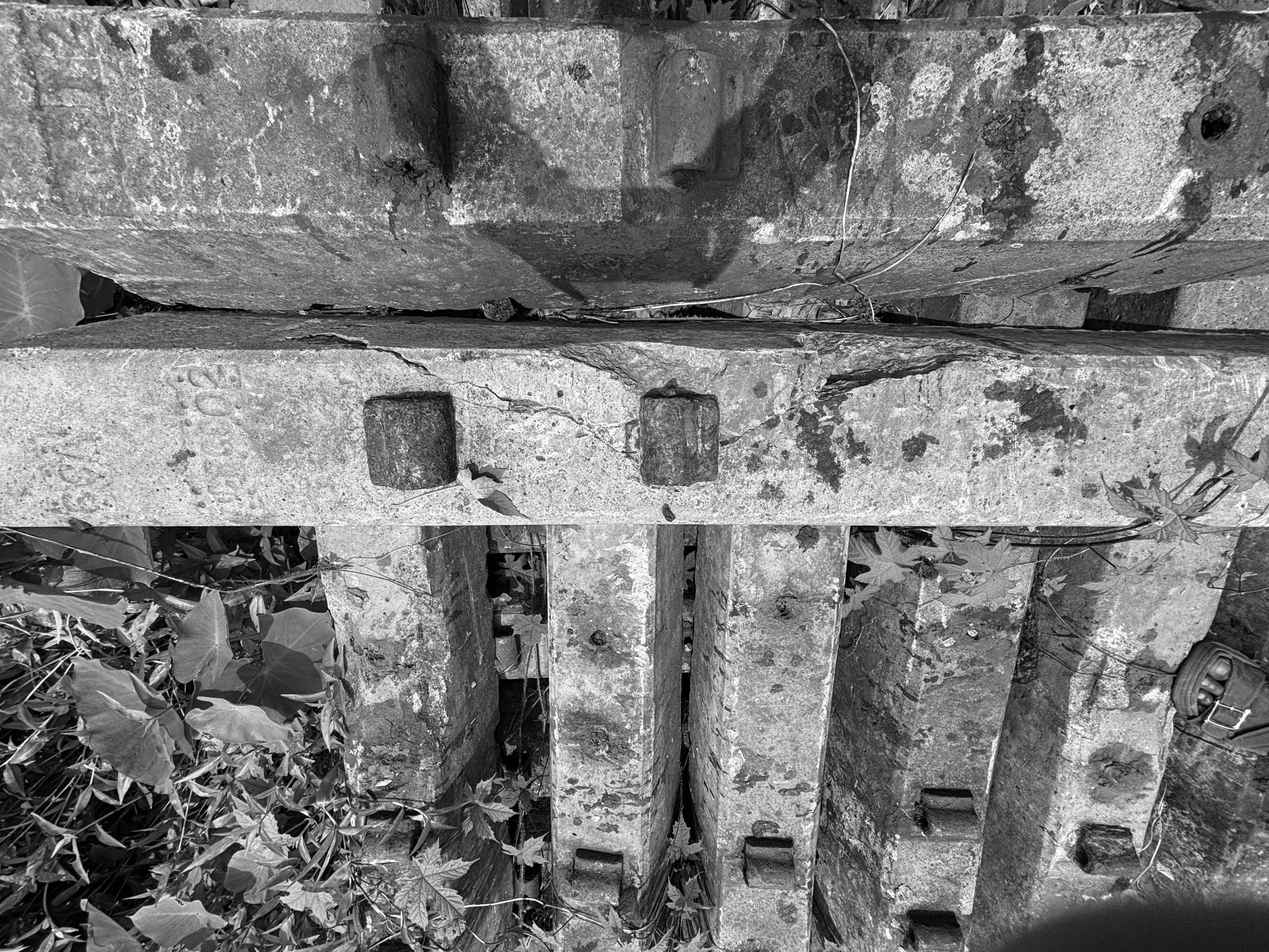cracks under rail seat: (687, 275, 1045, 462), (259, 304, 649, 467), (473, 336, 737, 402)
